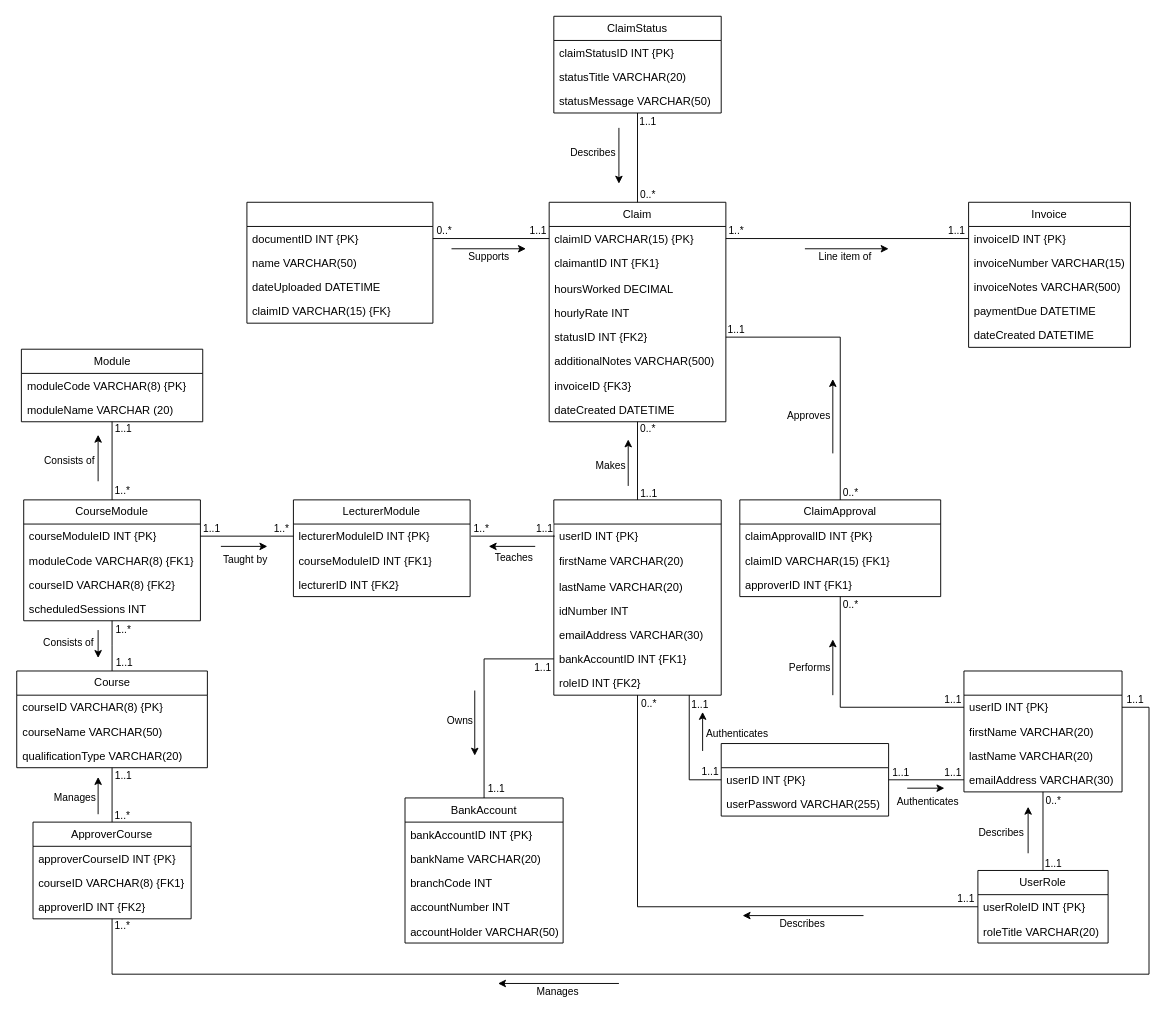
Some shapes in this 1166 by 1014 pixel diagram are drawn without their labels. The box of each missing label's shape, as (x1, y1, x2, y2) in pixels:
ClaimApprover: (963, 670, 1122, 792)
Lecturer: (553, 499, 721, 695)
SupportingDocument: (246, 201, 433, 323)
UserCredential: (720, 743, 889, 816)
